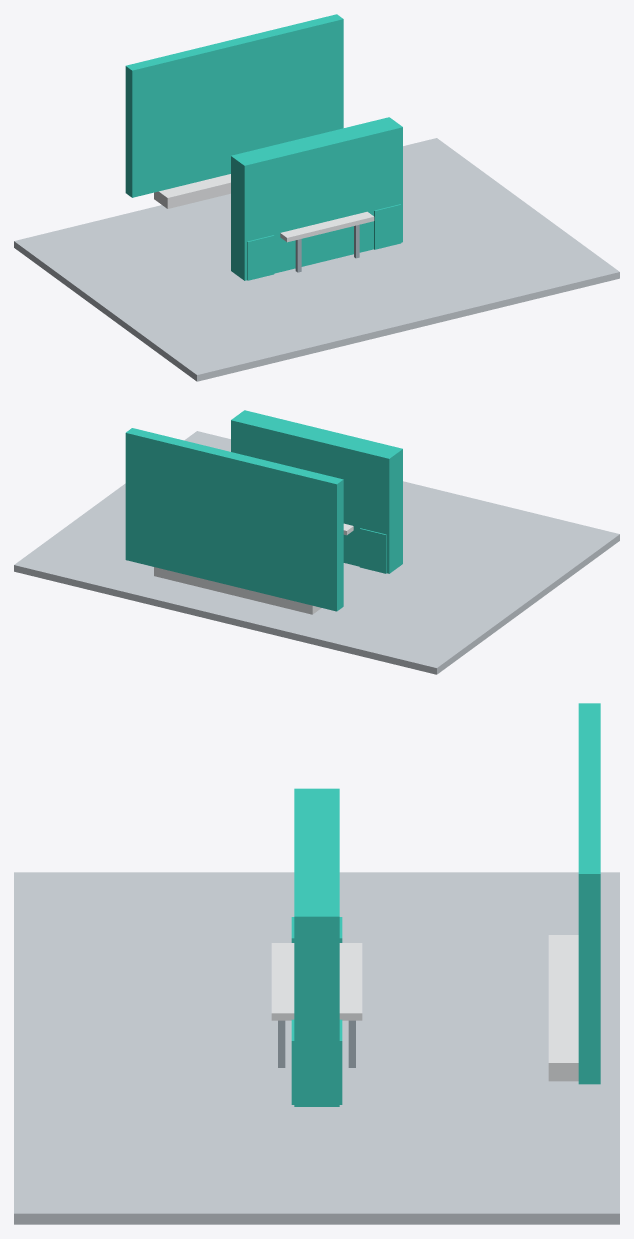
The picture shows the model from 3 angles, top to bottom: view 1: azimuth 30°, elevation 25°; view 2: azimuth 150°, elevation 25°; view 3: azimuth 270°, elevation 25°; orthographic projection. The views are drawn at different scales.
Parts seen in each view (by area): view 1: Exhibition Booth Concept; view 2: Exhibition Booth Concept; view 3: Exhibition Booth Concept.
Boxes of the visible parts, bbox=[...] form: Exhibition Booth Concept: bbox=[14, 14, 619, 381]; Exhibition Booth Concept: bbox=[14, 410, 619, 674]; Exhibition Booth Concept: bbox=[14, 703, 619, 1224].
Size of the model in its own units: 8 by 2.9 by 6.
